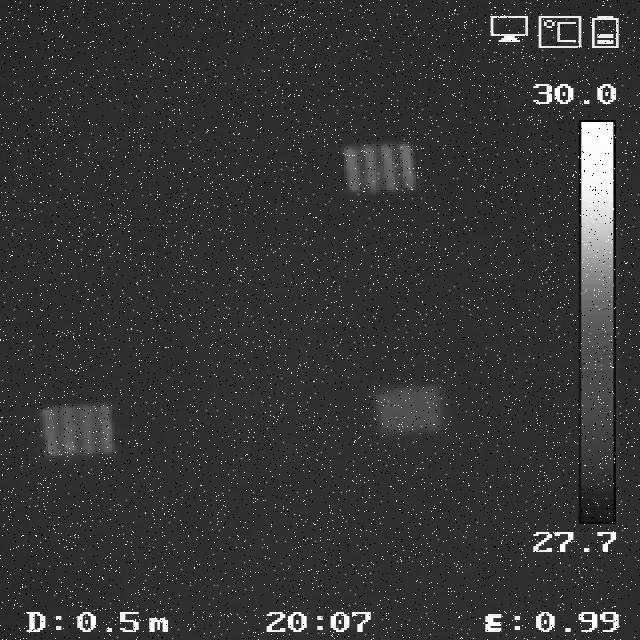Distinguishable 4-bar target: (342, 142, 418, 192)
Indistinguishable 4-bar target: (379, 389, 441, 432)
threshold 4-bar target: (39, 405, 116, 454)
